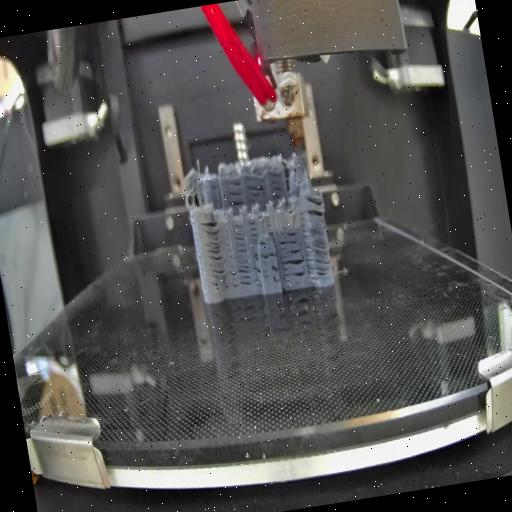cracks: (300, 222, 334, 282), (202, 218, 224, 278), (278, 248, 306, 286), (226, 256, 252, 290), (242, 173, 267, 204), (222, 173, 244, 207), (298, 189, 324, 217), (266, 168, 284, 200), (232, 224, 247, 254), (278, 228, 298, 247), (251, 251, 263, 279), (246, 218, 260, 240), (269, 264, 280, 288), (264, 212, 274, 238), (260, 249, 276, 260), (257, 238, 266, 246)
